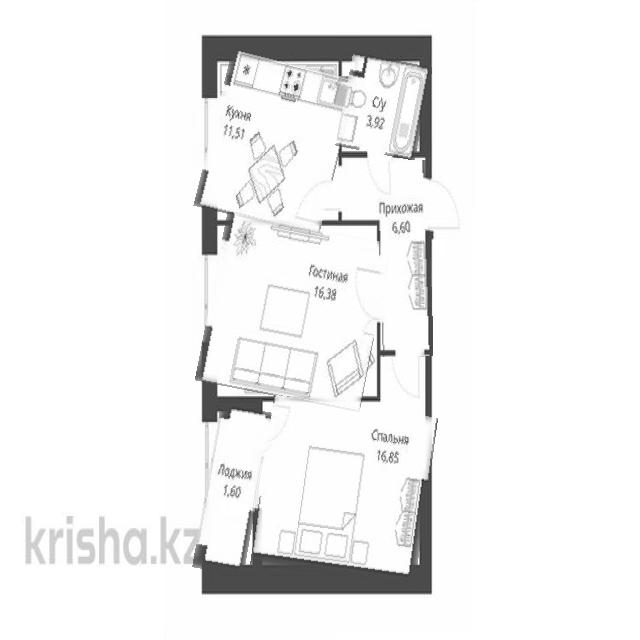bathroom: (339, 56, 428, 157)
kitchen: (202, 56, 349, 229)
living_room: (203, 219, 385, 405), (255, 401, 433, 583), (199, 406, 265, 575), (378, 161, 431, 357)
